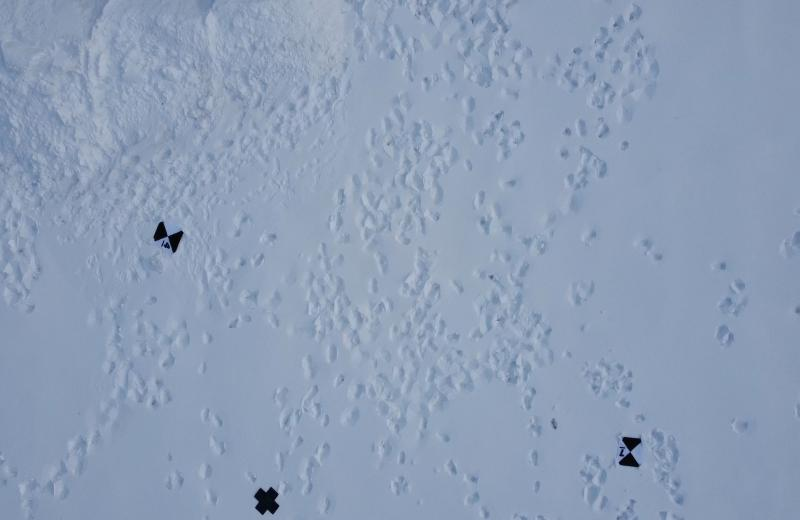Cross: (251, 485, 280, 518)
